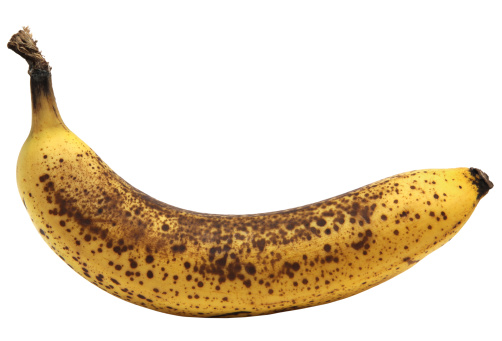rotten_banana: (6, 26, 494, 320)
